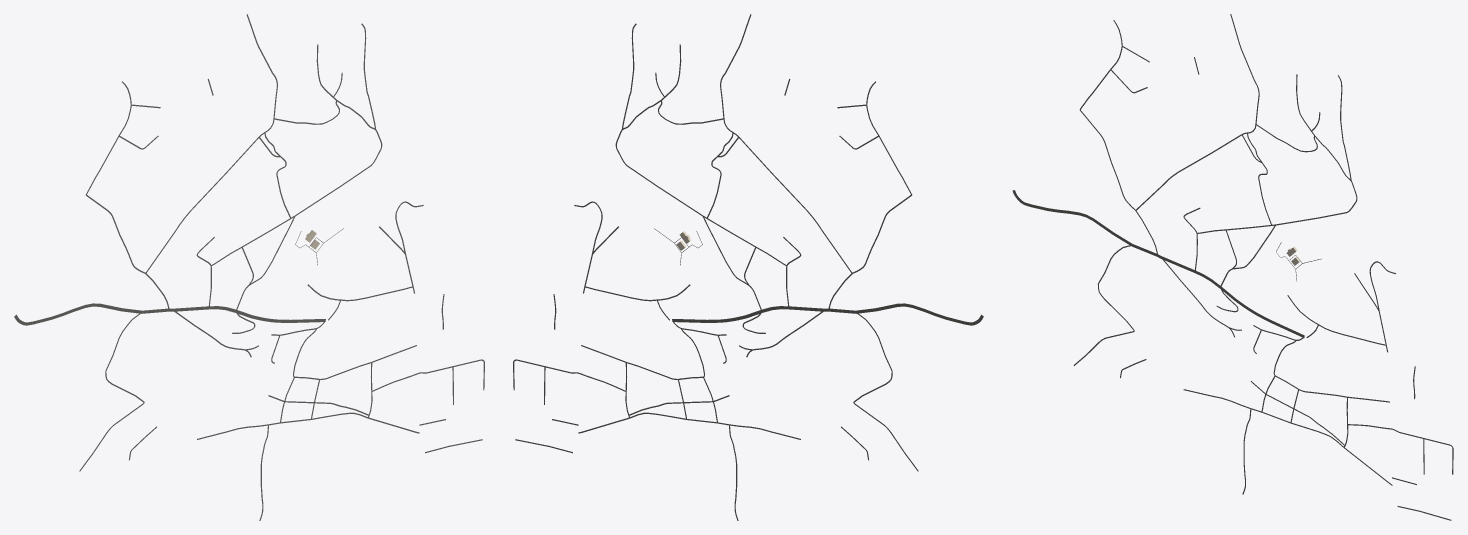
File: jerash_3590_3226.glb
The picture shows the model from 3 angles, left to right: view 1: azimuth 30°, elevation 25°; view 2: azimuth 150°, elevation 25°; view 3: azimuth 330°, elevation 25°; orthographic projection. The views are drawn at different scales.
Visible parts, largest first — view 1: Road .002, Road .019; view 2: Road .002, Road .019; view 3: Road .002, Road .019.
Part boxes in pixels (<box>): Road .002: <box>14,303,265,325</box>; Road .019: <box>208,44,382,306</box>; Road .002: <box>732,303,983,325</box>; Road .019: <box>615,44,789,307</box>; Road .002: <box>1012,190,1247,309</box>; Road .019: <box>1195,74,1357,270</box>.
Size of the model in its own units: 1269 by 1314 by 8.7.
